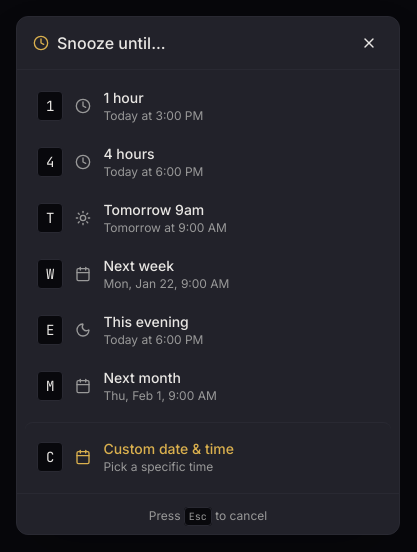
it: TriageSnoozePicker › custom date picker › returns to preset mode when Escape is pressed in custom mode
The image size is (417, 552).
Click the text "Custom date & time" at (169, 448), box left=103, top=440, right=234, bottom=456
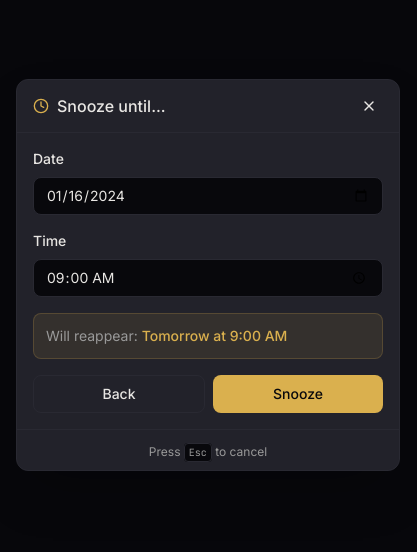
Press Escape
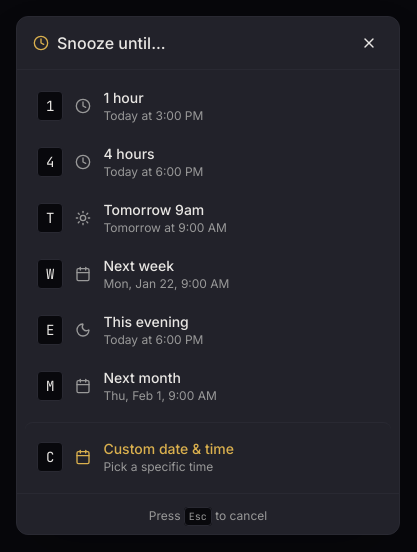
Check: the text "1 hour" is shown, box left=103, top=88, right=144, bottom=106
